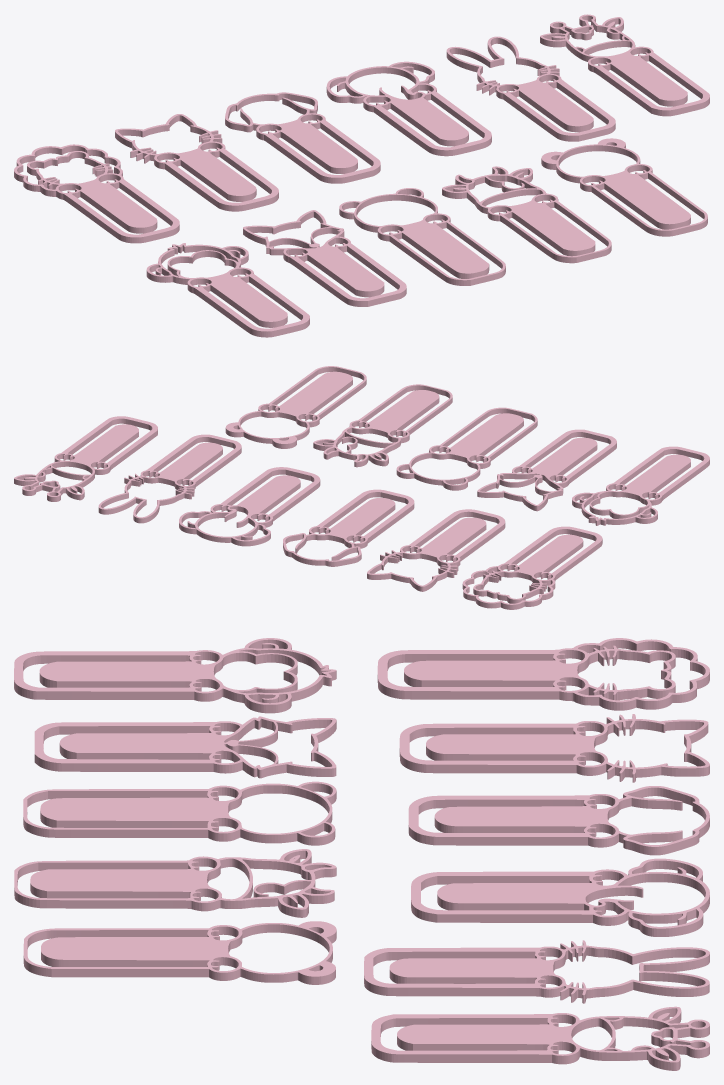
Rendered from clips-animalitos.glb.
3 views of the same model, one above another, from view 1: azimuth 30°, elevation 25°; view 2: azimuth 150°, elevation 25°; view 3: azimuth 270°, elevation 25° (orthographic). The views are drawn at different scales.
Parts seen in each view (by area): view 1: pieza; view 2: pieza; view 3: pieza.
Part boxes in pixels (bbox=[...]): pieza: bbox=[14, 14, 709, 337]; pieza: bbox=[14, 366, 709, 609]; pieza: bbox=[14, 638, 709, 1070].
Bounding box in the file's own units: 0.2192 × 0.00204 × 0.1519.
